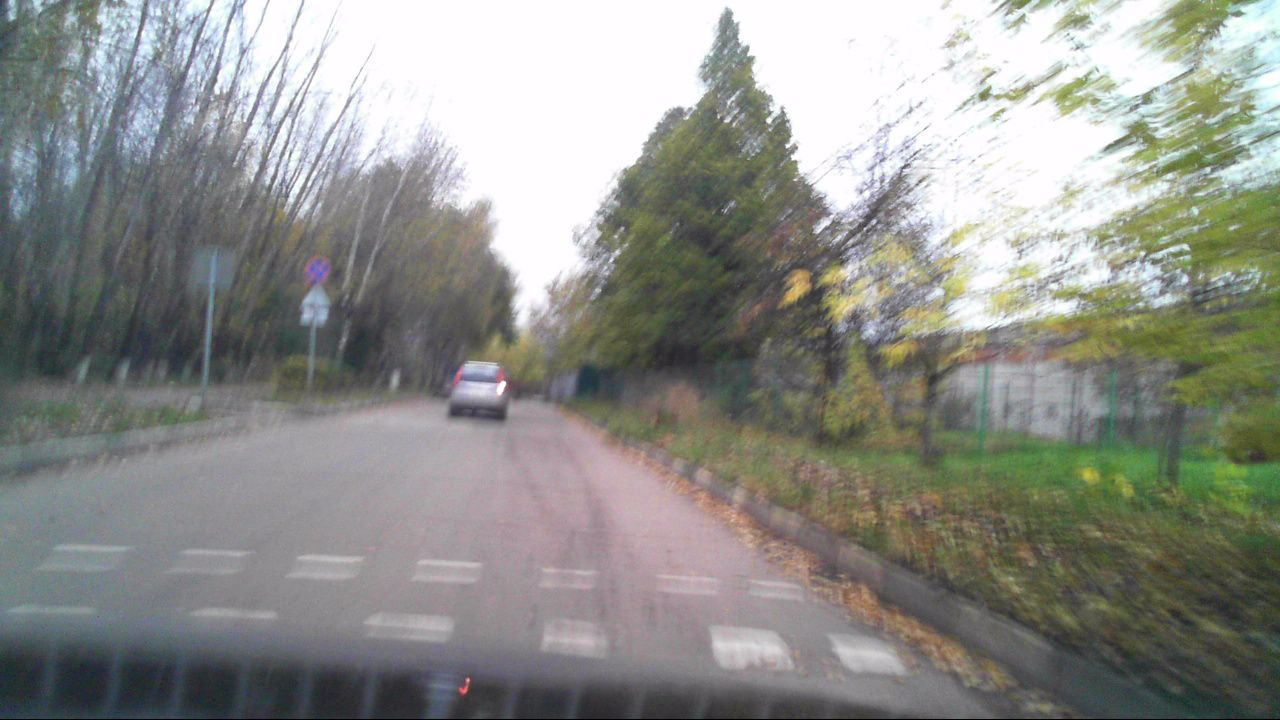No Parking: (305, 256, 330, 282)
